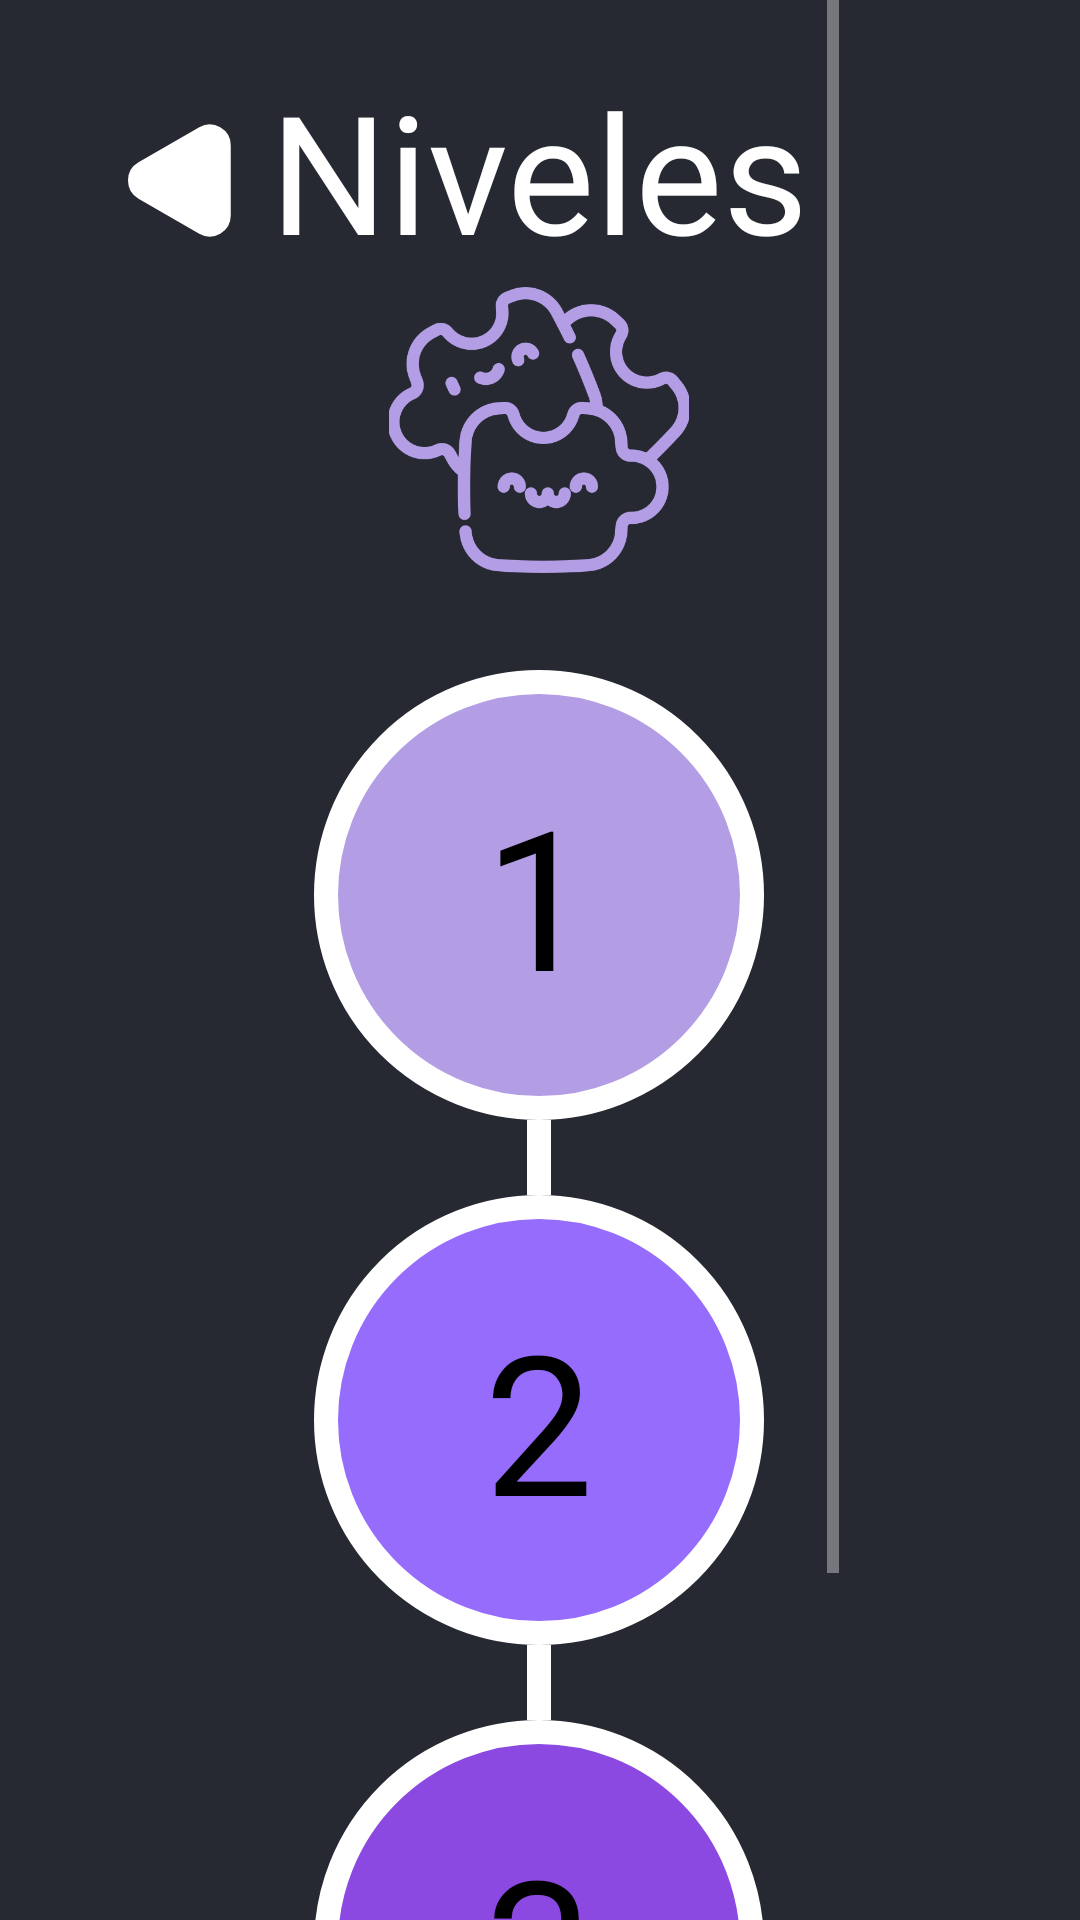

Icons on this 1080*1920 Android screen, each with its box as (x1,y1,x2,y2):
Boton para ir a la pantalla anterior: (128,124,231,237)
